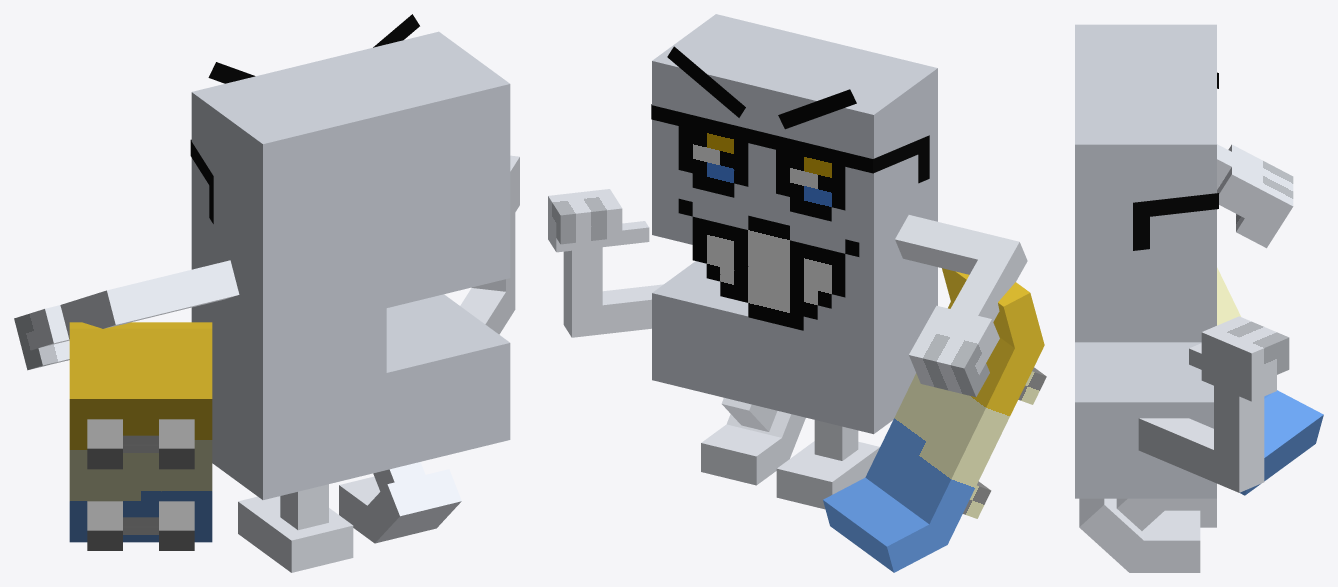
3 renders of one model, left to right at view 1: azimuth 30°, elevation 25°; view 2: azimuth 150°, elevation 25°; view 3: azimuth 270°, elevation 25°, orthographic. The views are drawn at different scales.
Visible parts, largest first — view 1: cube (×21); view 2: cube (×25); view 3: cube (×17).
Part boxes in pixels (x1,y1,x2,y2): cube (×21): (14,31,515,572); cube (×25): (548,14,1044,572); cube (×17): (1075,24,1323,572).
Bounding box in the file's own units: 2.03 × 1.85 × 0.8758.
1 material, 1 textured.
